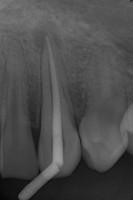Furcation Involvement: (31, 20, 62, 49)
